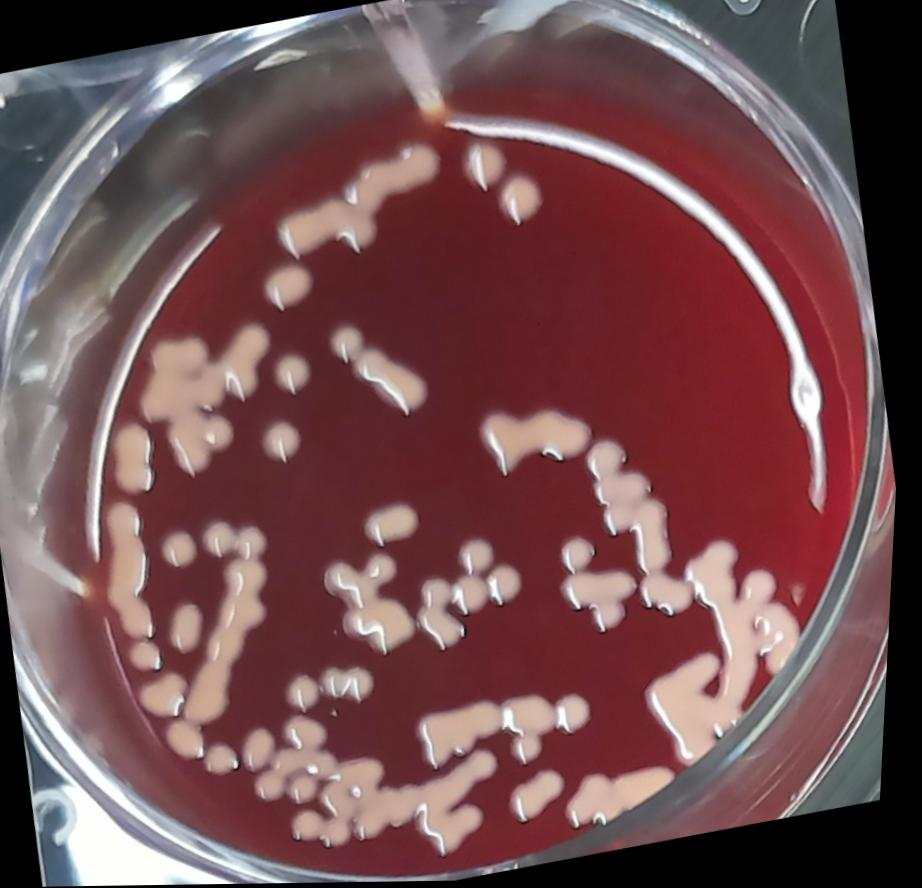krosea: (601, 528, 840, 800), (261, 132, 462, 263), (163, 554, 301, 728), (353, 745, 525, 879), (581, 420, 693, 586), (313, 547, 427, 666), (468, 394, 607, 487), (93, 498, 175, 646), (126, 328, 234, 435), (566, 757, 696, 844), (412, 695, 516, 773), (557, 564, 653, 645), (351, 339, 440, 426), (215, 315, 289, 403), (162, 406, 245, 483), (107, 417, 169, 501), (415, 574, 477, 657), (133, 664, 203, 728), (357, 498, 433, 554), (159, 707, 224, 771), (294, 800, 367, 855), (491, 170, 553, 233), (637, 568, 703, 627), (503, 686, 568, 744), (258, 257, 323, 312), (257, 412, 316, 472), (454, 138, 515, 196), (266, 343, 326, 401), (168, 596, 220, 658), (324, 660, 388, 709), (201, 733, 256, 786), (455, 529, 508, 581), (557, 687, 608, 741), (486, 558, 535, 610), (449, 573, 499, 623), (159, 527, 208, 577), (197, 516, 246, 564), (125, 636, 176, 682), (287, 670, 333, 717), (557, 533, 606, 577), (251, 767, 301, 810), (327, 321, 374, 366), (238, 518, 282, 561), (514, 734, 557, 773)
